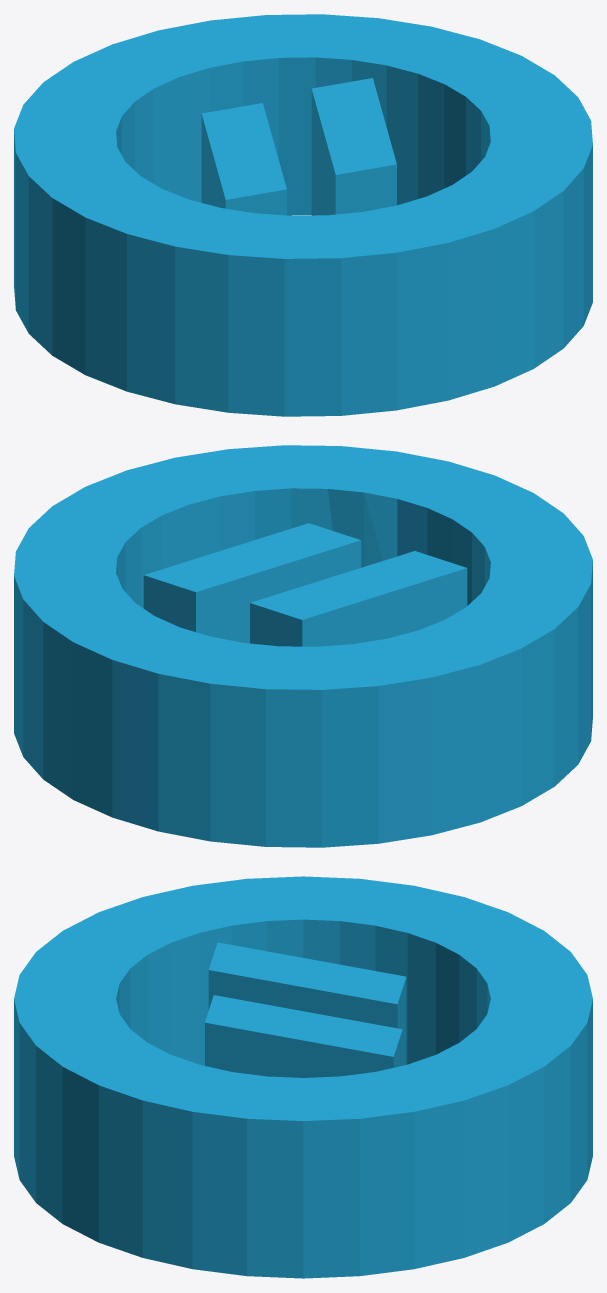
Rendered from heloma_neurovascular.gltf.
The picture shows the model from 3 angles, top to bottom: view 1: azimuth 30°, elevation 25°; view 2: azimuth 150°, elevation 25°; view 3: azimuth 270°, elevation 25°; orthographic projection.
Visible parts, largest first — view 1: Cilindro, Cube, Cube.001; view 2: Cilindro, Cube.001, Cube; view 3: Cilindro, Cube, Cube.001.
Part boxes in pixels (x1,y1,x2,y2): Cilindro: (14, 14, 592, 416); Cube: (311, 78, 396, 215); Cube.001: (201, 103, 286, 215); Cilindro: (14, 445, 592, 847); Cube.001: (250, 551, 467, 646); Cube: (143, 523, 361, 643); Cilindro: (14, 876, 592, 1278); Cube: (205, 995, 402, 1077); Cube.001: (208, 942, 406, 1065).
Size of the model in its own units: 1.75 by 0.5262 by 1.75.
